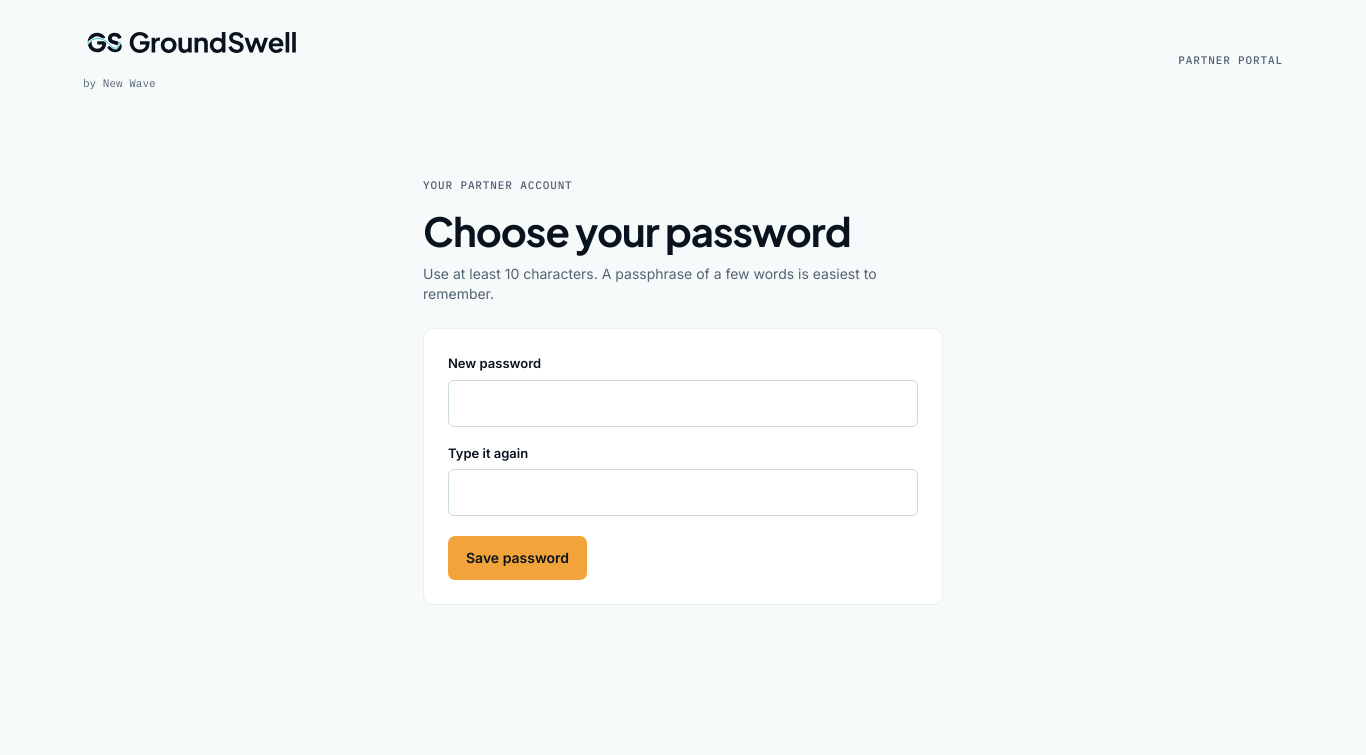
Test: set-password page › saves a matching password from the link’s token
This screenshot has width=1366, height=755.
Later steps or results of the test are not shown.
In the password field labelled "New password": (683, 403) [448,380,918,427], type "a long passphrase"
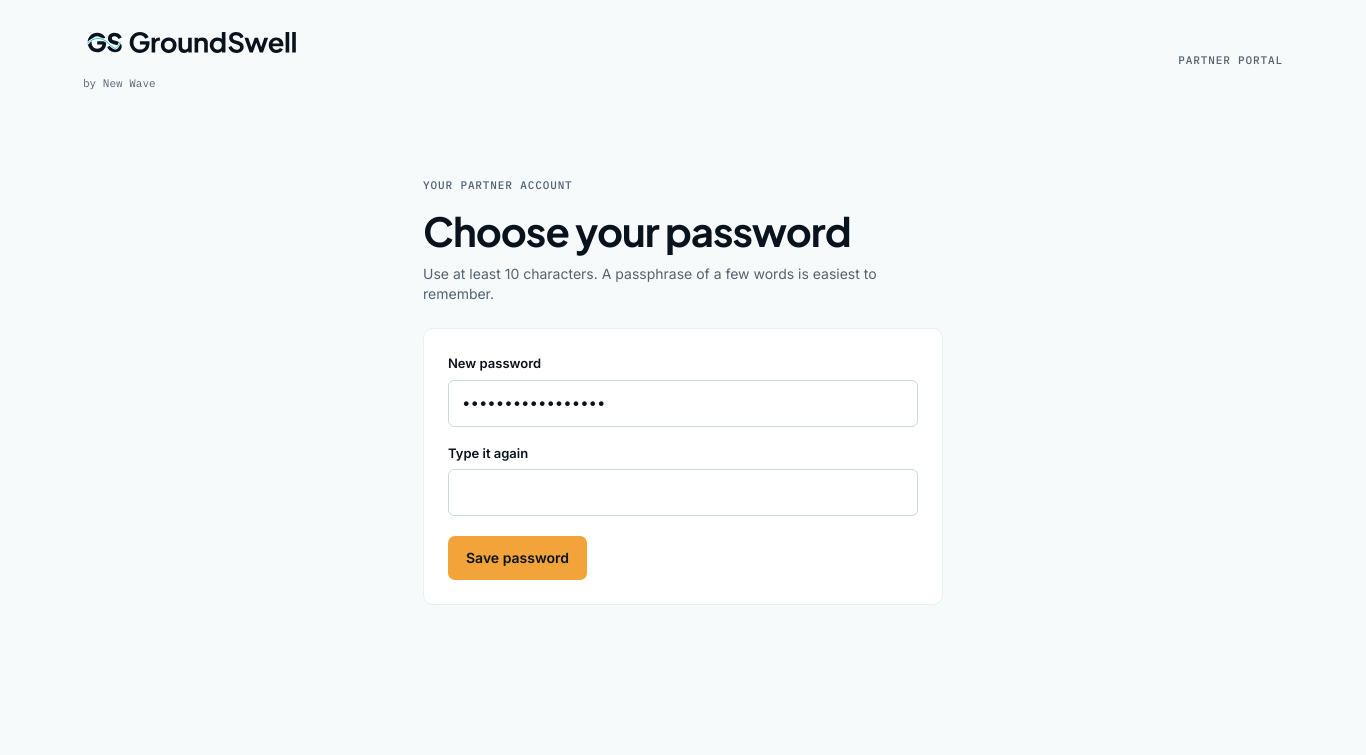
In the password field labelled "Type it again": (683, 493) [448,469,918,516], type "a different one!"
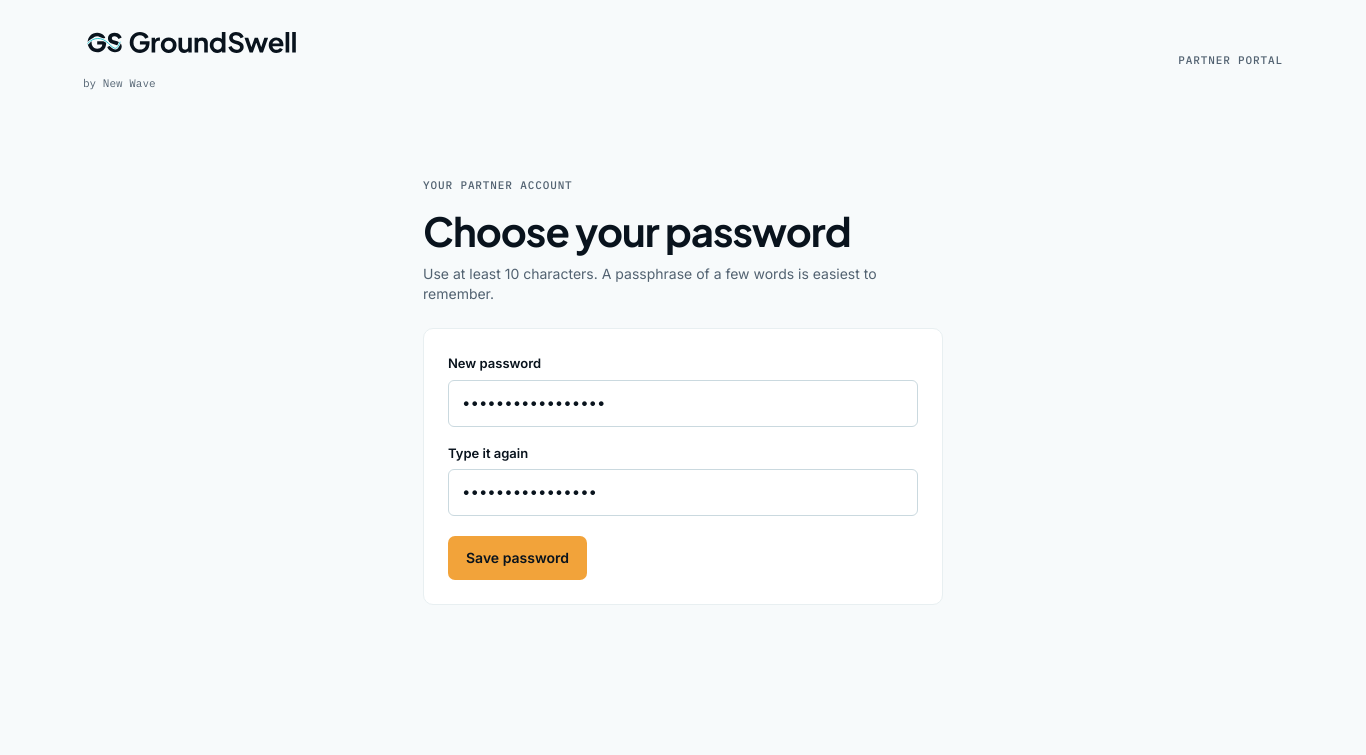
Click the button "Save password": (518, 558) [448,536,587,580]
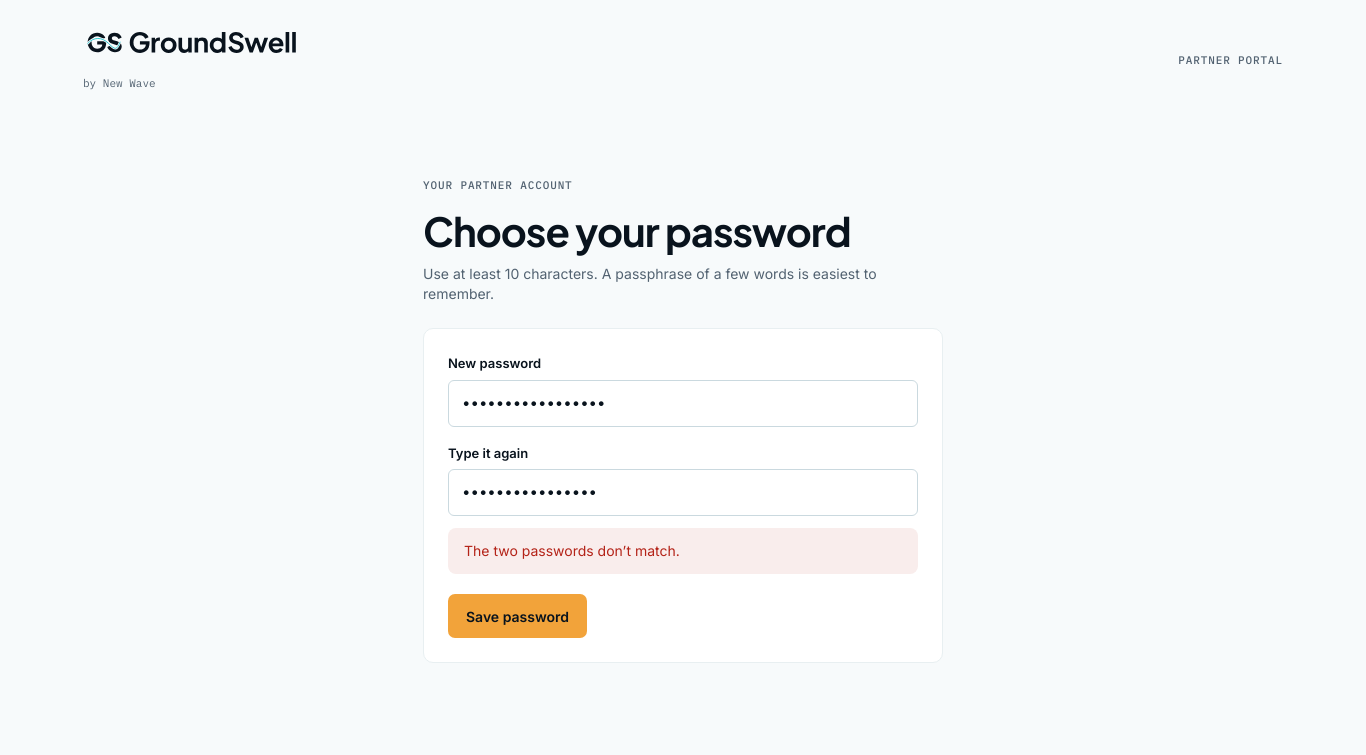
Now the message shows "don’t match", box [464,542,680,559]
